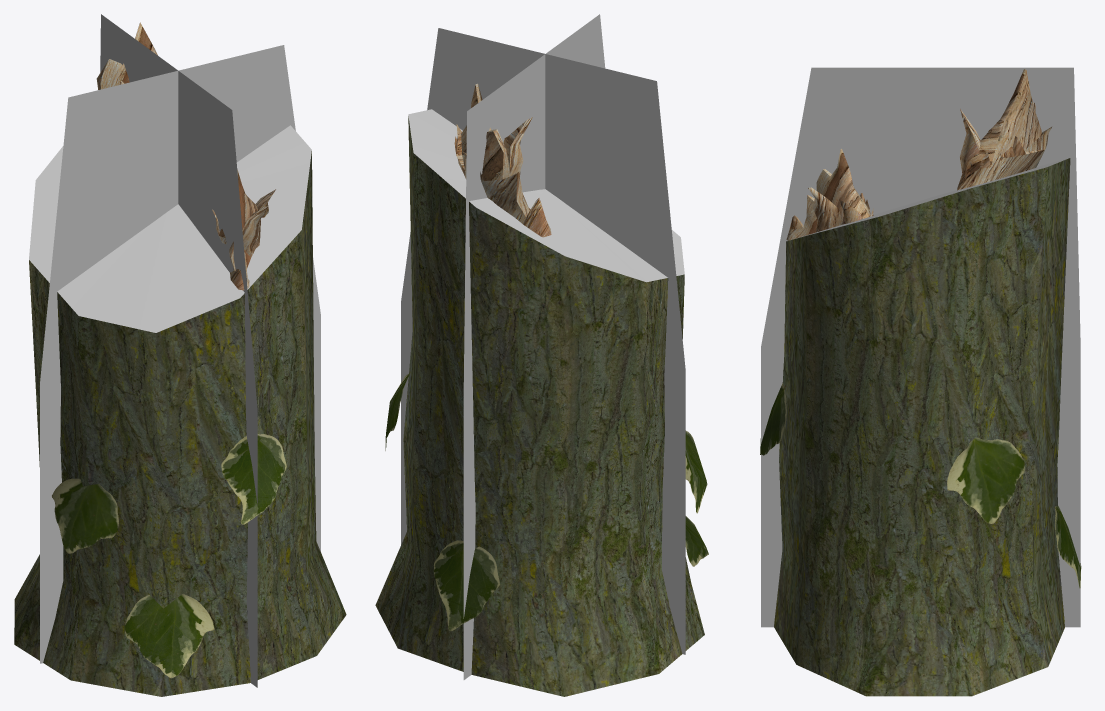
Rendered from Stump5.fbx.
3 renders of one model, left to right at view 1: azimuth 30°, elevation 25°; view 2: azimuth 150°, elevation 25°; view 3: azimuth 270°, elevation 25°, orthographic.
Visible parts, largest first — view 1: LOD0, Billboard; view 2: LOD0, Billboard; view 3: LOD0, Billboard.
Part boxes in pixels (<box>): LOD0: <box>14,22,346,696</box>; Billboard: <box>40,14,320,687</box>; LOD0: <box>375,83,708,696</box>; Billboard: <box>401,14,685,679</box>; LOD0: <box>760,69,1081,696</box>; Billboard: <box>761,67,1080,627</box>.
Size of what is drawn, in the model's own units: 70.48 by 134 by 72.33.
